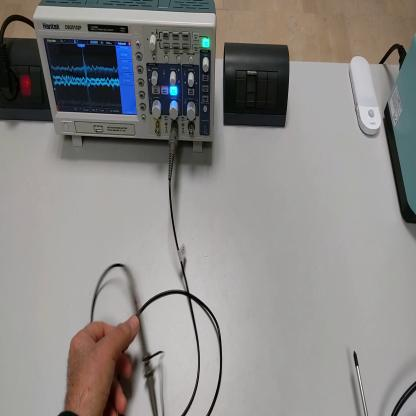hand: (65, 313, 141, 415)
oscilloscope: (33, 1, 221, 153)
oscilloscope probe tip: (116, 269, 158, 416)
screwdriver-: (353, 354, 369, 416)
socket: (2, 37, 56, 128)
welder station: (381, 35, 416, 236)
